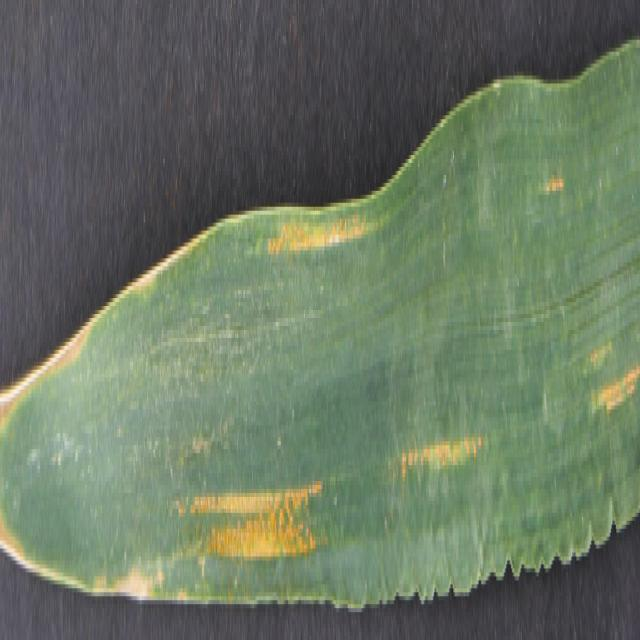leaf rust: (173, 426, 333, 588), (397, 389, 492, 497), (265, 215, 376, 298), (585, 306, 640, 461), (541, 151, 572, 235)
